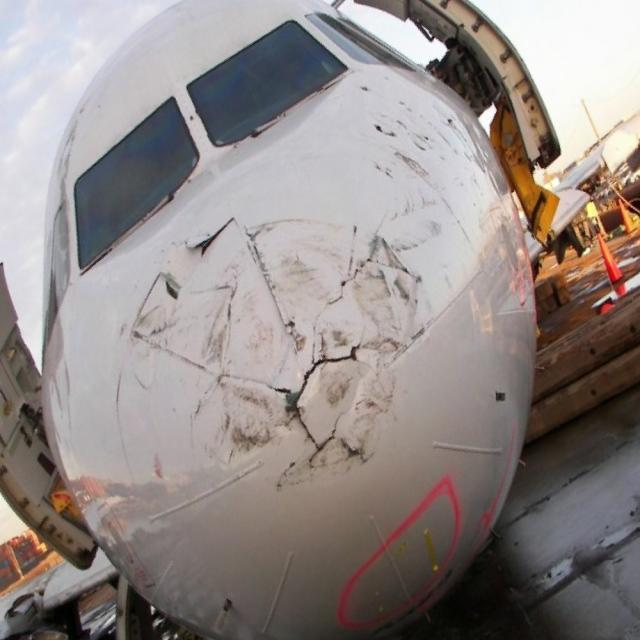crack: (132, 212, 428, 488)
